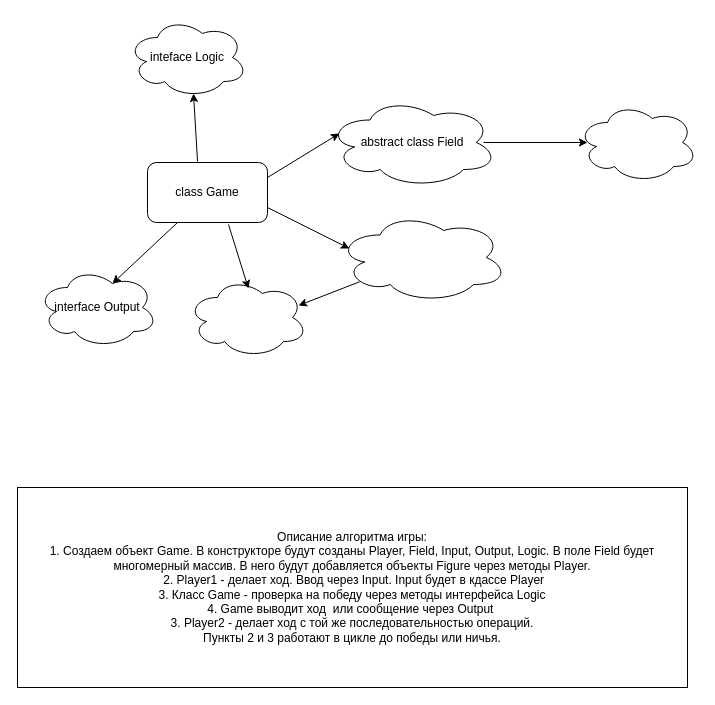
This 715x705 diagram has some shape labels left out. Each missing label, with the box of its shape:
abstract class Player: (336, 212, 508, 302)
interface Figure: (576, 102, 698, 182)
interface Input: (186, 276, 308, 358)
